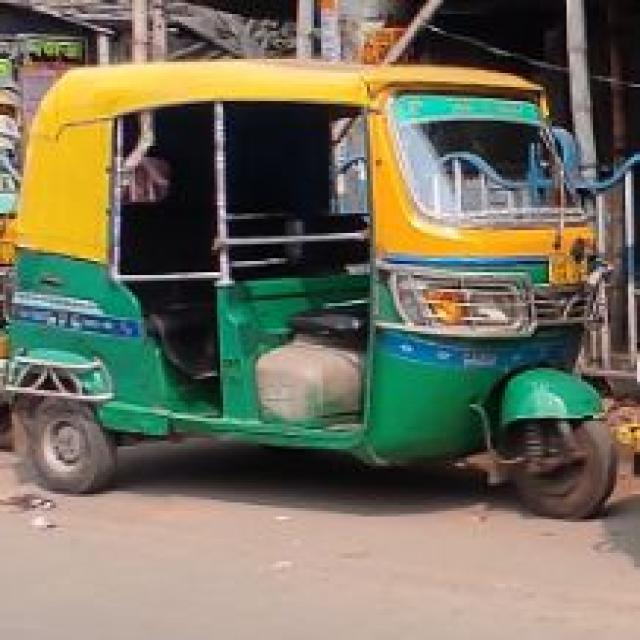autorickshaw: (13, 50, 627, 539)
